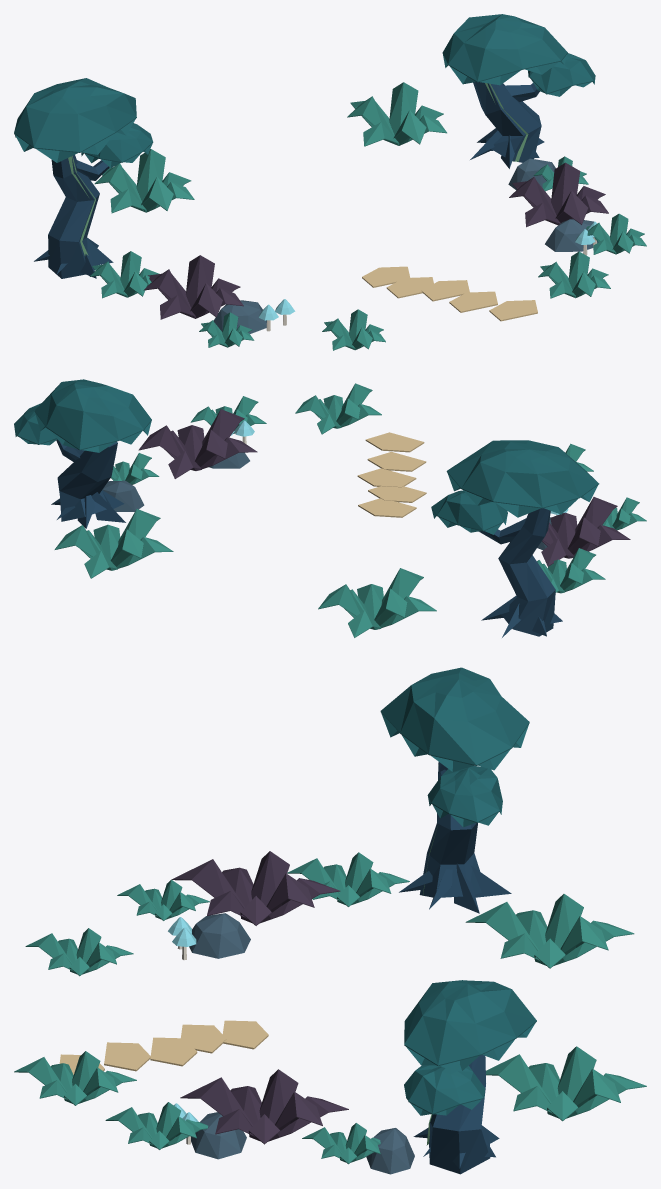
The model's file is decoration.glb.
The picture shows the model from 3 angles, top to bottom: view 1: azimuth 30°, elevation 25°; view 2: azimuth 150°, elevation 25°; view 3: azimuth 270°, elevation 25°; orthographic projection. The views are drawn at different scales.
Visible parts, largest first — view 1: Decor_Zecora_HerbsAndPath, Tree_Zecora_0, Tree_Zecora_1, Decor_Zecora_Understory; view 2: Decor_Zecora_HerbsAndPath, Tree_Zecora_0, Tree_Zecora_1, Decor_Zecora_Understory; view 3: Decor_Zecora_HerbsAndPath, Decor_Zecora_Understory, Tree_Zecora_0, Tree_Zecora_1.
Part boxes in pixels (x1,y1,x2,y2): Decor_Zecora_HerbsAndPath: (94, 82, 608, 331); Tree_Zecora_0: (14, 78, 153, 278); Tree_Zecora_1: (442, 14, 595, 168); Decor_Zecora_Understory: (89, 156, 646, 350); Decor_Zecora_HerbsAndPath: (54, 409, 630, 637); Tree_Zecora_0: (431, 440, 599, 637); Tree_Zecora_1: (14, 379, 151, 528); Decor_Zecora_Understory: (102, 383, 646, 593); Decor_Zecora_HerbsAndPath: (59, 851, 646, 1144); Decor_Zecora_Understory: (14, 852, 414, 1174); Tree_Zecora_0: (380, 667, 529, 913); Tree_Zecora_1: (404, 980, 536, 1174).
Bounding box in the file's own units: 1.9 × 0.5781 × 1.51.
